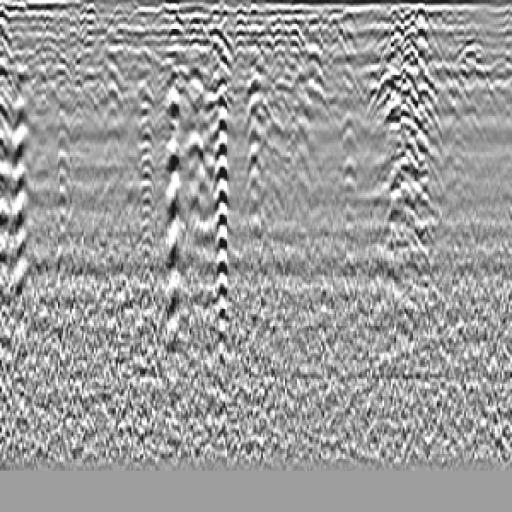metalic: (352, 23, 467, 204)
